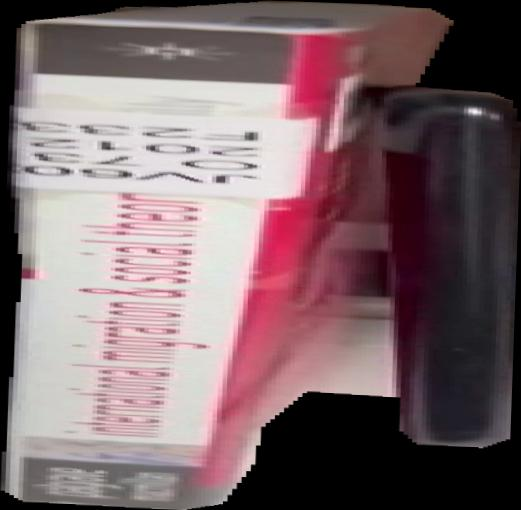reverse: (1, 1, 521, 510)
